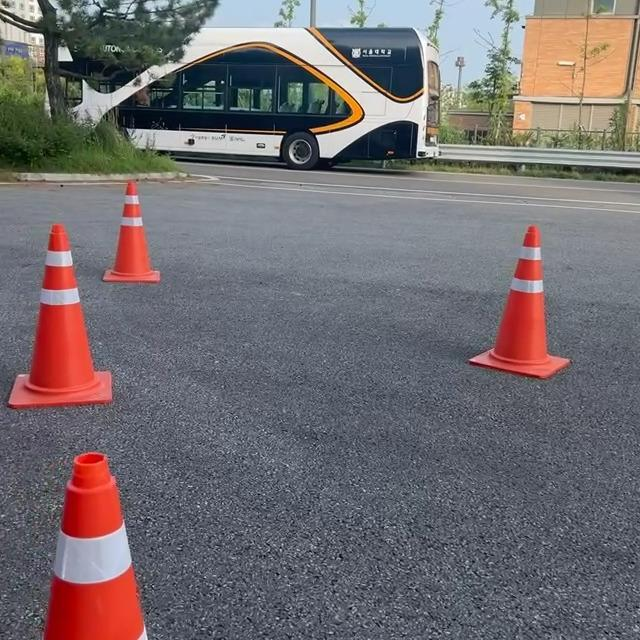fallen_object: (417, 196, 616, 361), (30, 444, 187, 640), (0, 197, 139, 398), (89, 155, 194, 311)
